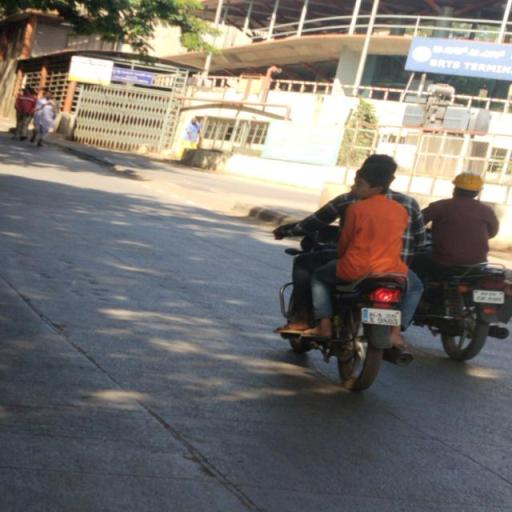bike: (271, 152, 430, 398)
numberplate: (362, 308, 402, 326)
withouthelmet: (355, 169, 391, 197), (367, 155, 398, 172)
